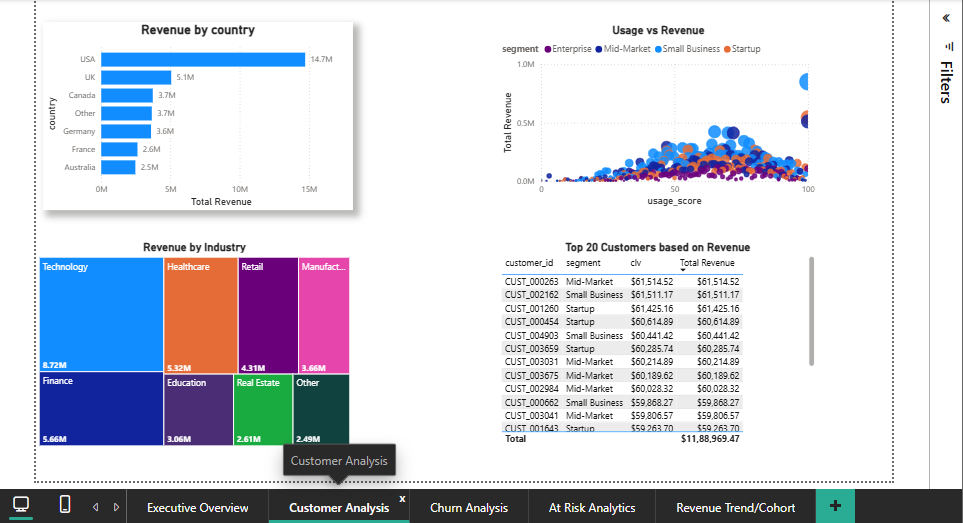

This screenshot's page, from the dashboard's own definition file:
{"tool":"powerbi","page":{"name":"Customer Analysis","canvas":[1280,720],"ordinal":1},"visuals":[{"type":"clusteredBarChart","title":"Revenue by country","fields":{"Category":["saas_analytics customers.country"],"Y":["saas_analytics customers.Total Revenue"]},"box":[10.5,34.4,463.1,280.8],"z":0},{"type":"scatterChart","title":"Usage vs Revenue","fields":{"X":["saas_analytics customers.usage_score"],"Y":["saas_analytics customers.Total Revenue"],"Size":["Sum(saas_analytics customers.clv)"],"Series":["saas_analytics customers.segment"]},"box":[691.6,35.9,476.5,279.3],"z":1000},{"type":"treemap","title":"Revenue by Industry","fields":{"Values":["saas_analytics customers.Total Revenue"],"Group":["saas_analytics customers.industry"]},"box":[0,359.5,473.7,312.4],"z":2000},{"type":"tableEx","title":"Top 20  Customers based on Revenue","fields":{"Values":["saas_analytics customers.customer_id","saas_analytics customers.segment","saas_analytics customers.clv","saas_analytics customers.Total Revenue"]},"box":[690.1,360,478,310.7],"z":3000}]}

Visuals, with their boxes on the page's 1280x720 design canvas (x1, y1, x2, y2). These are canvas units, not pixel positions in the 963x523 screenshot, which may show the page scaled, cropped or inside an application window:
"Revenue by country" clusteredBarChart: 10/34/474/315
"Usage vs Revenue" scatterChart: 692/36/1168/315
"Revenue by Industry" treemap: 0/360/474/672
"Top 20  Customers based on Revenue" tableEx: 690/360/1168/671
